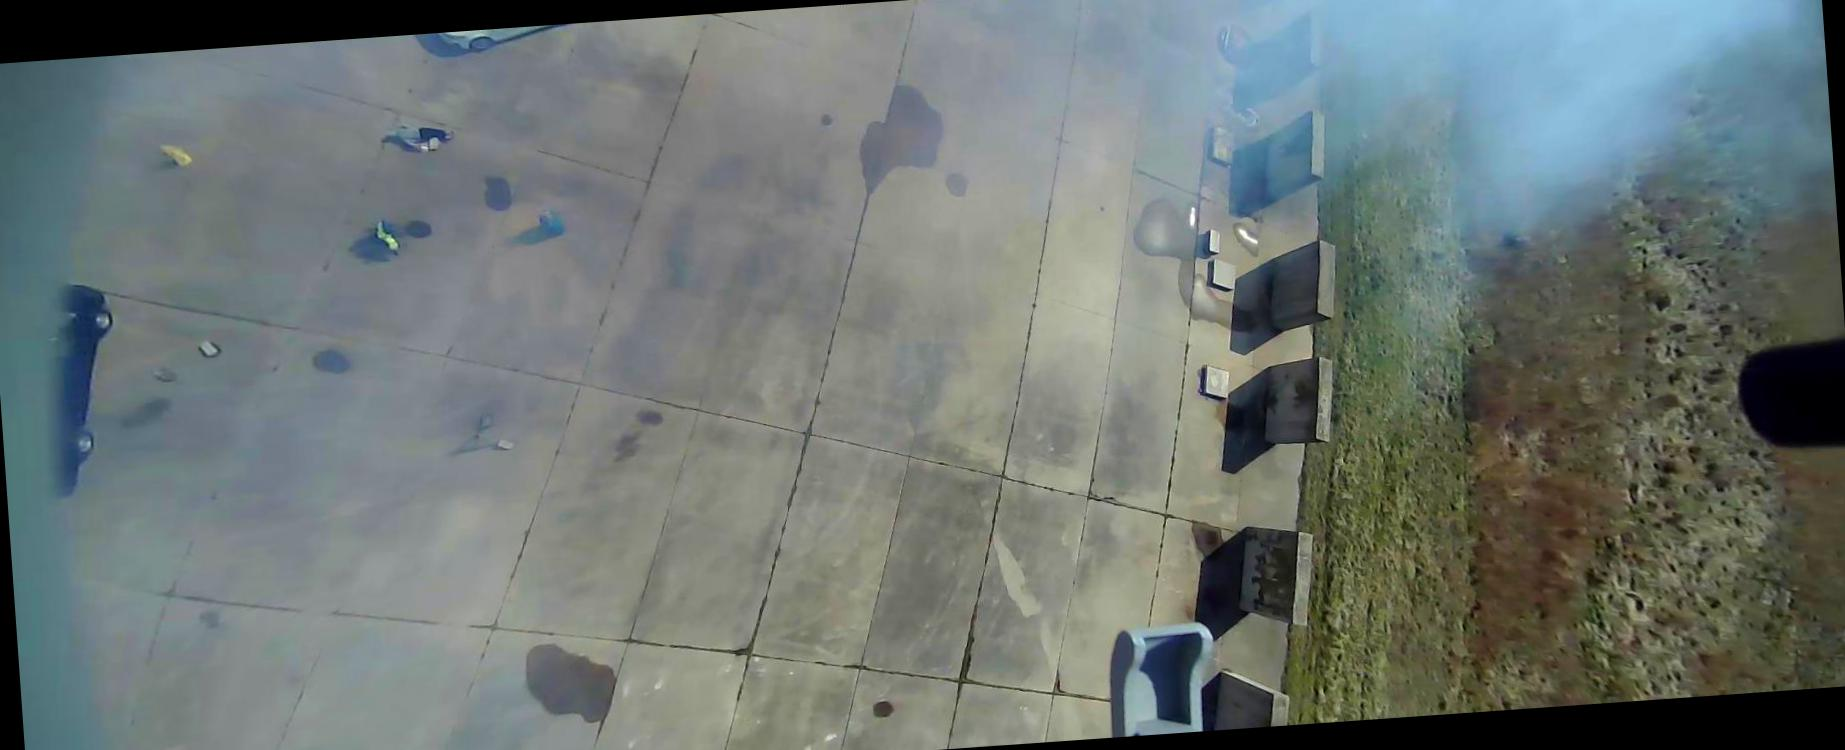vehicle: (32, 280, 125, 491), (437, 26, 548, 54)
